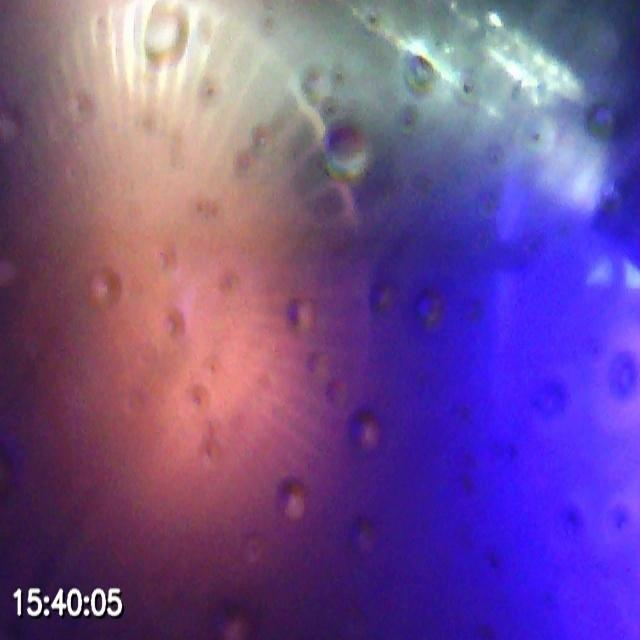white-dots: (582, 257, 640, 292)
